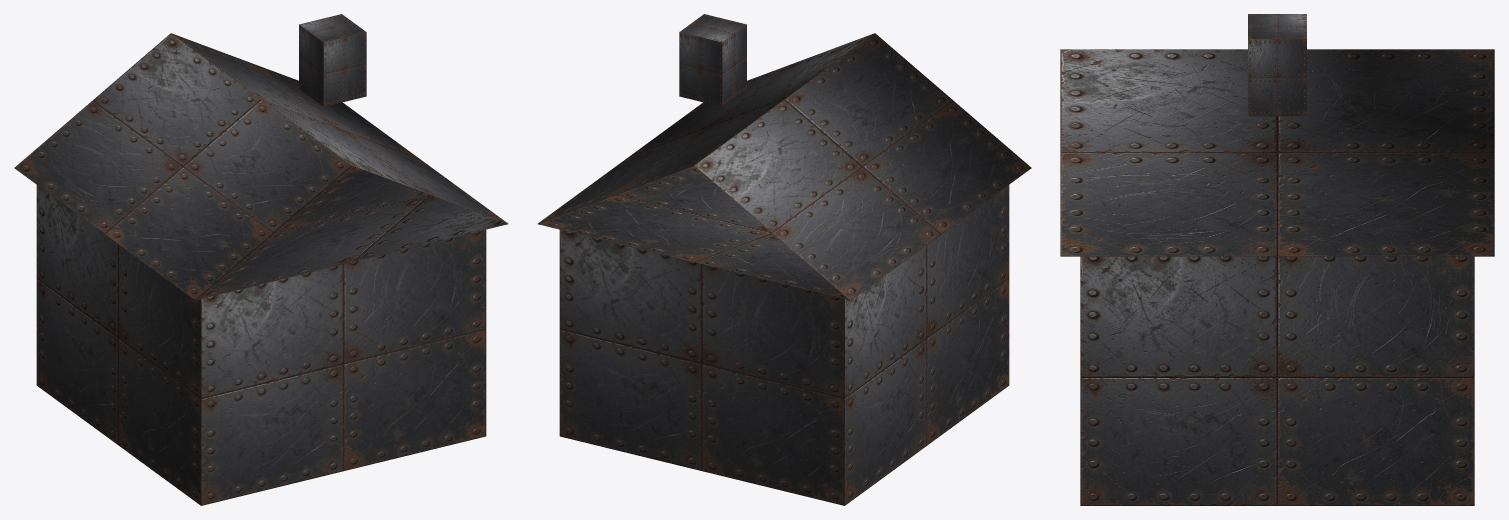
The model's file is weaponsmith.obj.
3 views of the same model, side by side, from view 1: azimuth 30°, elevation 25°; view 2: azimuth 150°, elevation 25°; view 3: azimuth 270°, elevation 25° (orthographic). The views are drawn at different scales.
Visible parts, largest first — view 1: building; view 2: building; view 3: building.
Part boxes in pixels (x1,y1,x2,y2): building: [14, 14, 508, 505]; building: [537, 14, 1031, 505]; building: [1060, 14, 1494, 505].
Bounding box in the file's own units: 2.75 × 3.06 × 2.75.
